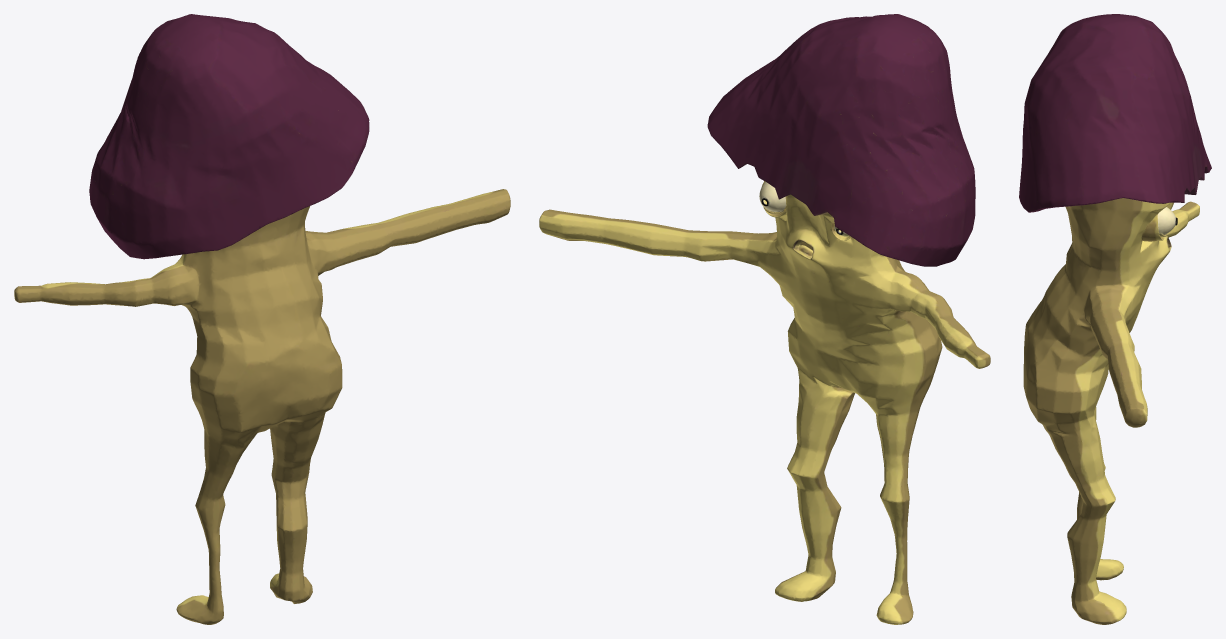
File: Variant_1_Bipedal.glb
3 views of the same model, side by side, from view 1: azimuth 30°, elevation 25°; view 2: azimuth 150°, elevation 25°; view 3: azimuth 270°, elevation 25° (orthographic). The views are drawn at different scales.
Parts seen in each view (by area): view 1: world; view 2: world; view 3: world.
Boxes of the visible parts, x1,y1,x2,y2 form: world: [14, 14, 510, 624]; world: [539, 14, 990, 624]; world: [1019, 14, 1211, 624].
Bounding box in the file's own units: 0.8094 × 0.9784 × 0.3052.
1 material, 1 textured.
